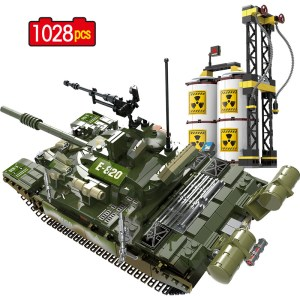Battle Tank: (4, 102, 266, 286)
